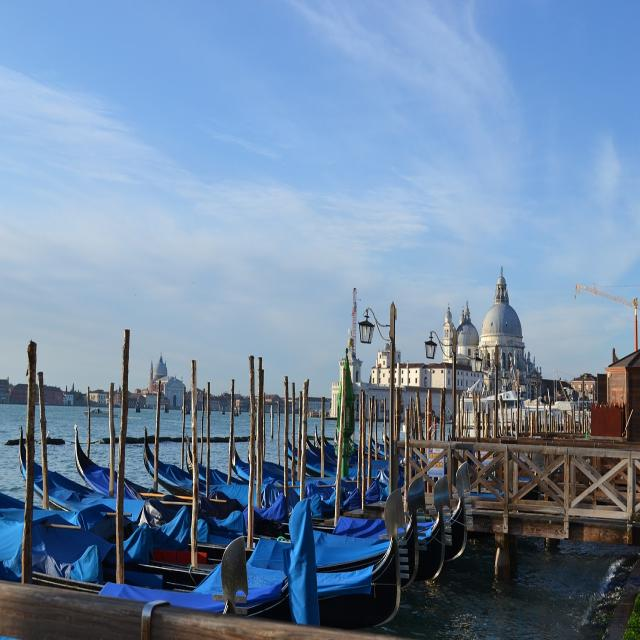boat: (16, 423, 430, 586), (0, 466, 323, 640)
